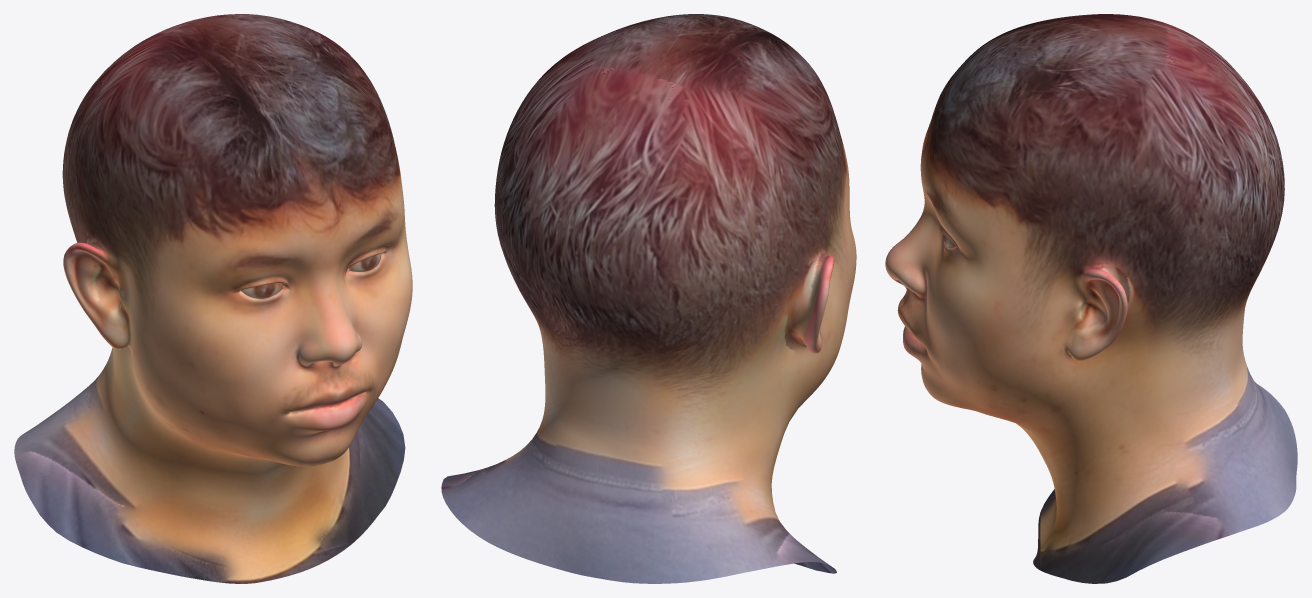
Rendered from helmi2.glb.
3 views of the same model, side by side, from view 1: azimuth 30°, elevation 25°; view 2: azimuth 150°, elevation 25°; view 3: azimuth 270°, elevation 25° (orthographic). The views are drawn at different scales.
Visible parts, largest first — view 1: FBHead; view 2: FBHead; view 3: FBHead.
Part boxes in pixels (box(x1,y1,x2,y2)): FBHead: box(14, 14, 412, 583); FBHead: box(441, 14, 856, 583); FBHead: box(885, 14, 1297, 583).
Bounding box in the file's own units: 1.87 × 2.58 × 1.87.
1 material, 1 textured.
